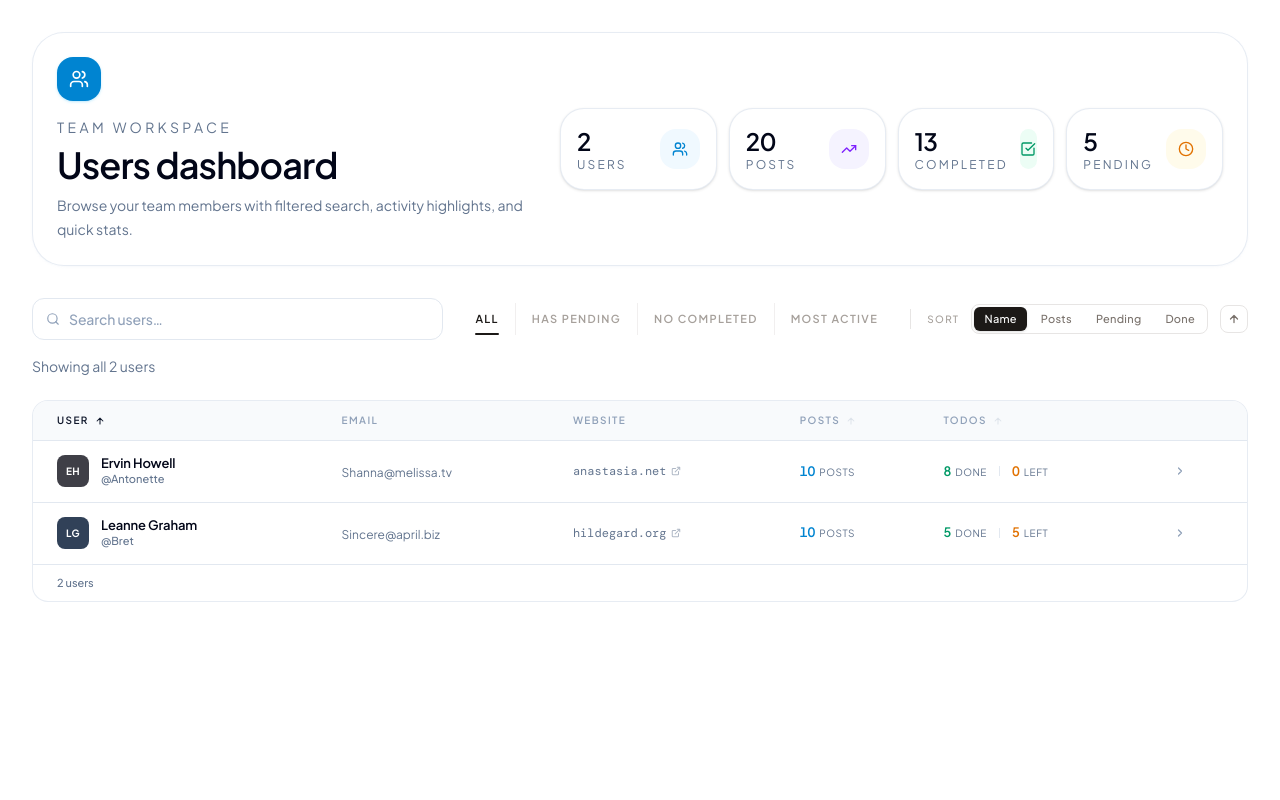
UsersPage › shows empty state when filters remove all results
Type "zzzznonexistent" into the field with placeholder "Search users…" at (238, 319), box [32, 298, 443, 340]
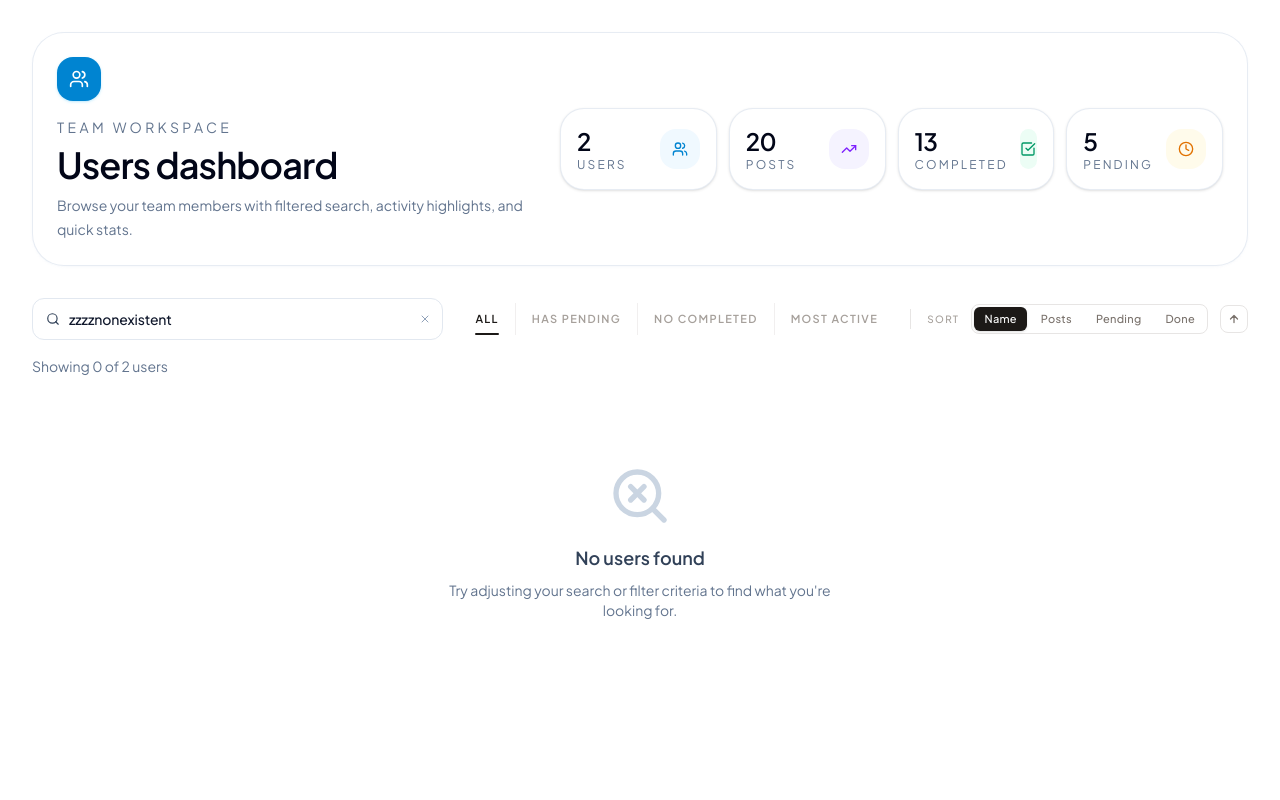
Expected: the heading "No users found" is shown, [575, 544, 705, 572]
